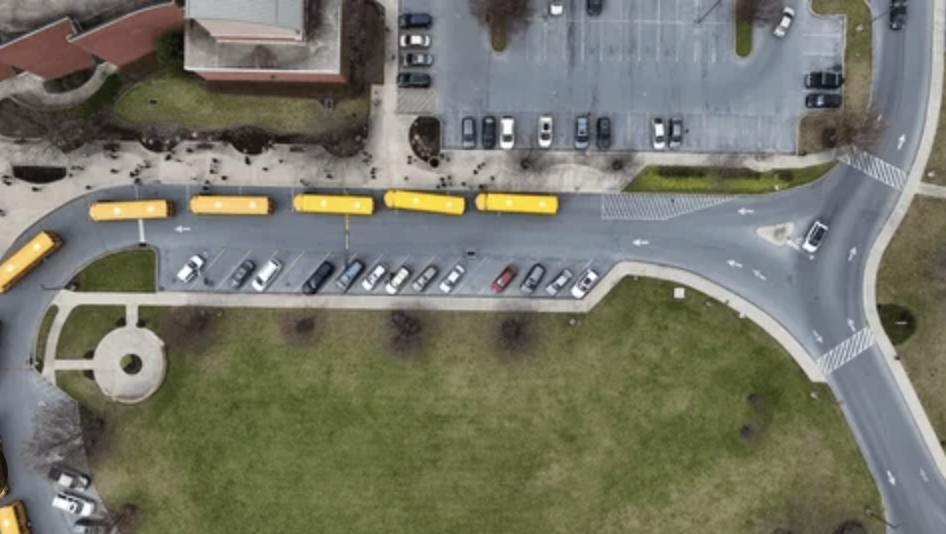Bus: (0, 231, 63, 294), (384, 190, 465, 214), (88, 200, 174, 222), (475, 192, 558, 214), (294, 194, 375, 214), (190, 196, 274, 214)
Car: (48, 464, 90, 492), (52, 492, 96, 518), (302, 260, 334, 294), (251, 257, 282, 292), (652, 116, 682, 151), (570, 268, 600, 299), (336, 259, 364, 292), (176, 253, 206, 283), (384, 264, 412, 296), (804, 66, 844, 88), (802, 220, 828, 253), (519, 262, 545, 294), (491, 264, 518, 294), (545, 268, 573, 296), (440, 264, 465, 294), (362, 262, 388, 290), (412, 264, 438, 292), (772, 5, 794, 38), (231, 258, 255, 288), (399, 50, 434, 68), (498, 116, 516, 150), (574, 114, 590, 149), (398, 72, 430, 89), (596, 116, 612, 150), (806, 94, 842, 109), (668, 118, 684, 150), (482, 116, 497, 150), (537, 114, 552, 148), (462, 116, 477, 148), (400, 13, 432, 28), (400, 34, 431, 48)
